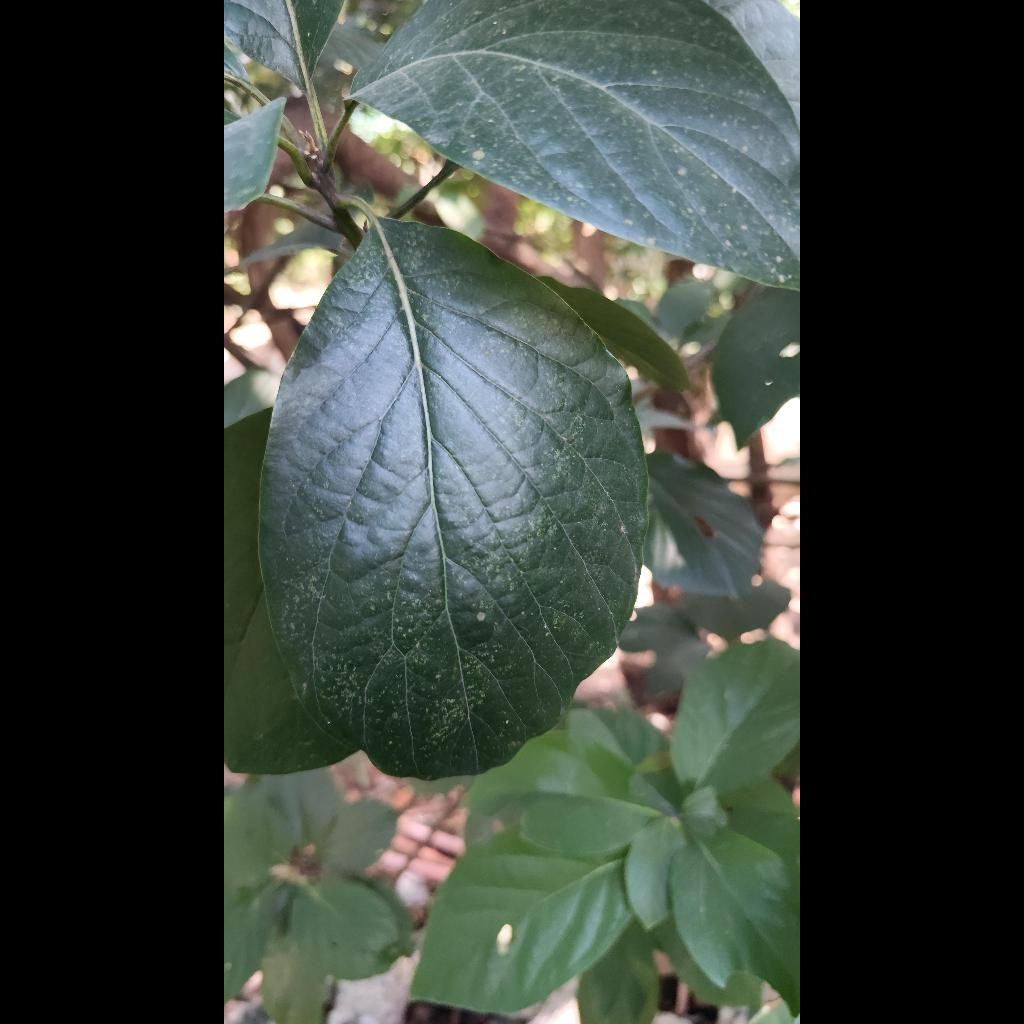Pest Infested: (260, 219, 646, 779), (353, 0, 800, 288)
